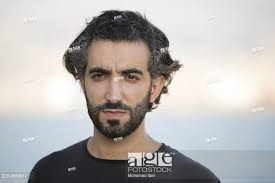middle_eastern_male: (76, 17, 166, 137)
